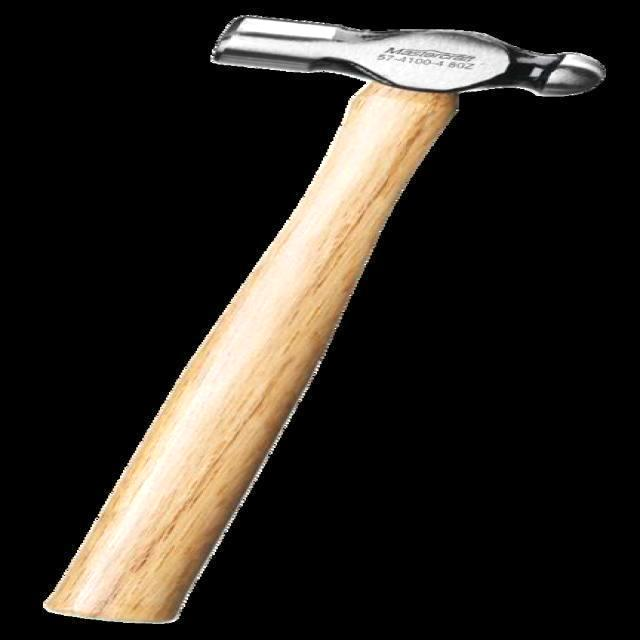hammer: (15, 0, 640, 631)
